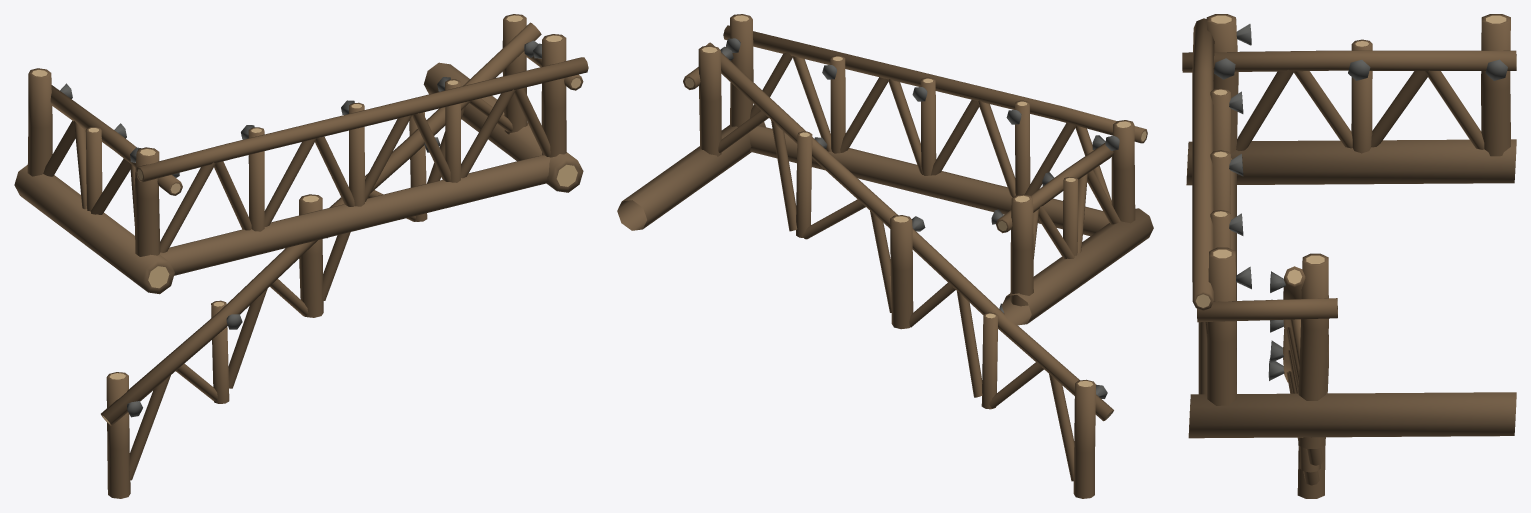
The model's file is rpgpp_ag_stairs_interior_02a_4m_handrail_02.fbx.
3 views of the same model, side by side, from view 1: azimuth 30°, elevation 25°; view 2: azimuth 150°, elevation 25°; view 3: azimuth 270°, elevation 25° (orthographic). The views are drawn at different scales.
Parts seen in each view (by area): view 1: rpgpp_ag_stairs_interior_02a_4m_handrail_02; view 2: rpgpp_ag_stairs_interior_02a_4m_handrail_02; view 3: rpgpp_ag_stairs_interior_02a_4m_handrail_02.
Part boxes in pixels (<box>): rpgpp_ag_stairs_interior_02a_4m_handrail_02: <box>14,14,588,498</box>; rpgpp_ag_stairs_interior_02a_4m_handrail_02: <box>617,14,1153,498</box>; rpgpp_ag_stairs_interior_02a_4m_handrail_02: <box>1182,14,1516,498</box>.
Bounding box in the file's own units: 6.63 × 5.42 × 3.37.
